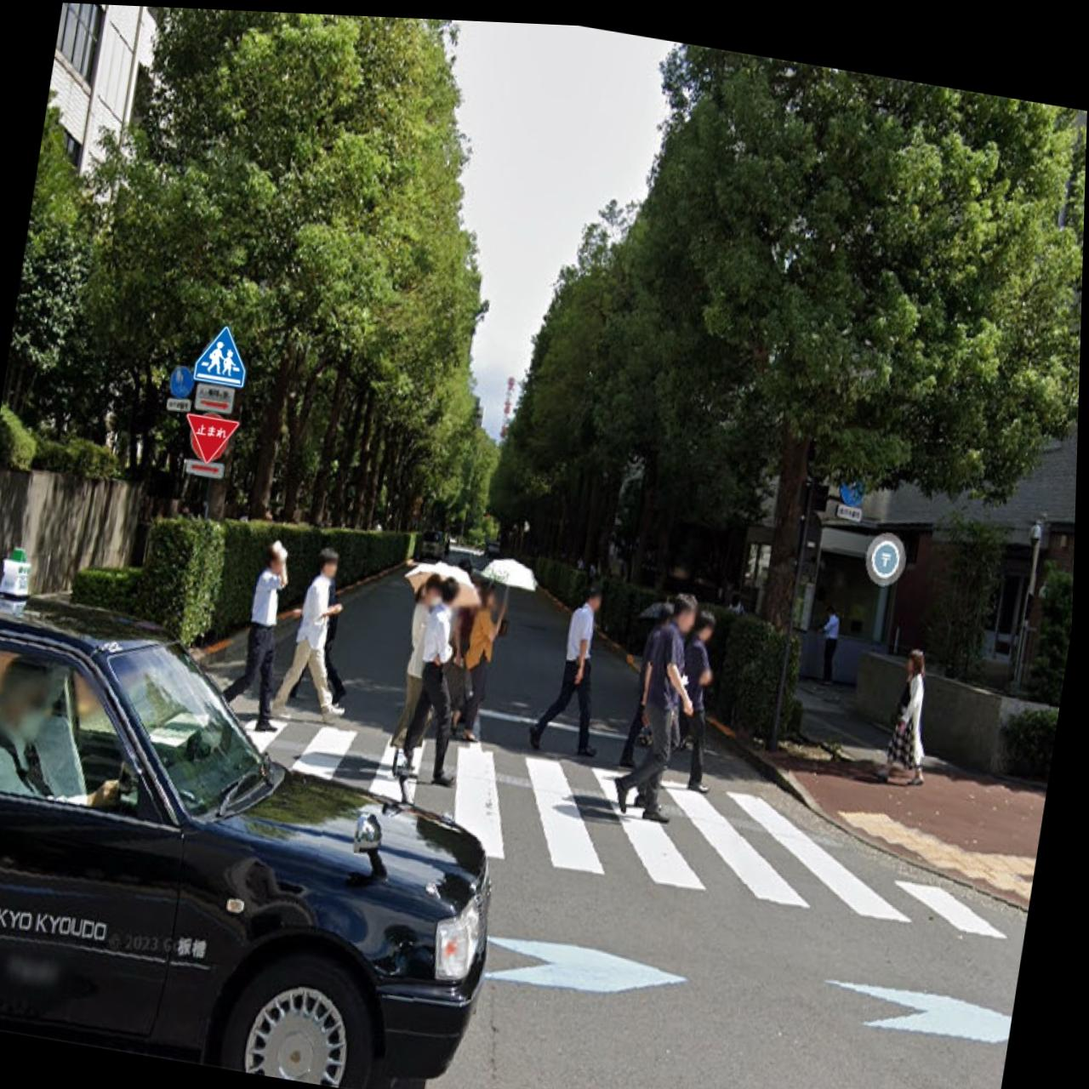cone: (98, 175, 292, 553)
